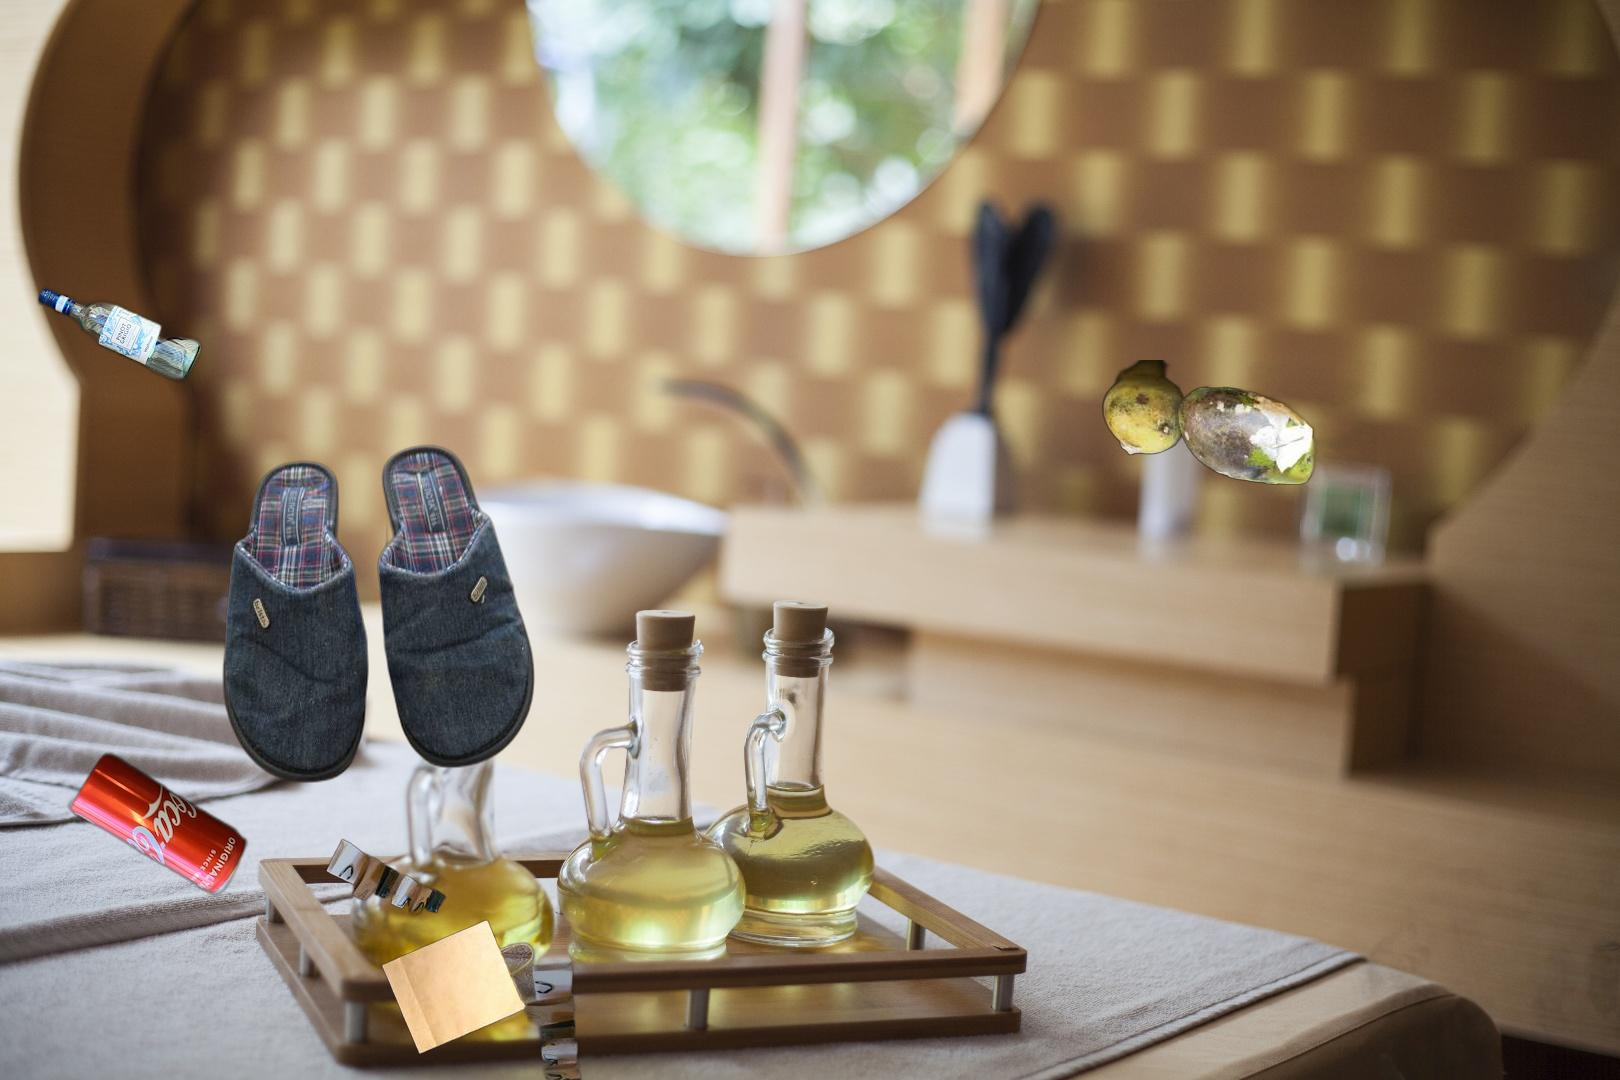biological: (988, 360, 1377, 489)
glass: (33, 281, 206, 388)
metal-cans: (64, 749, 252, 900)
paper: (1195, 867, 1620, 1080)
paper-bag: (323, 837, 585, 1080)
shoes: (221, 441, 538, 786)
